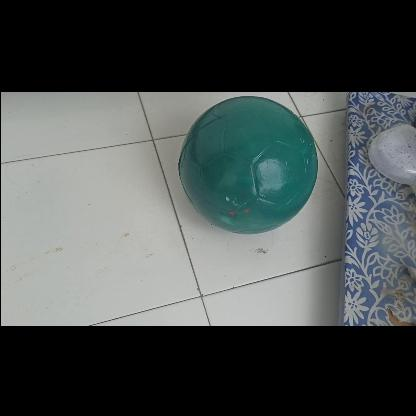green_ball: (178, 95, 316, 233)
